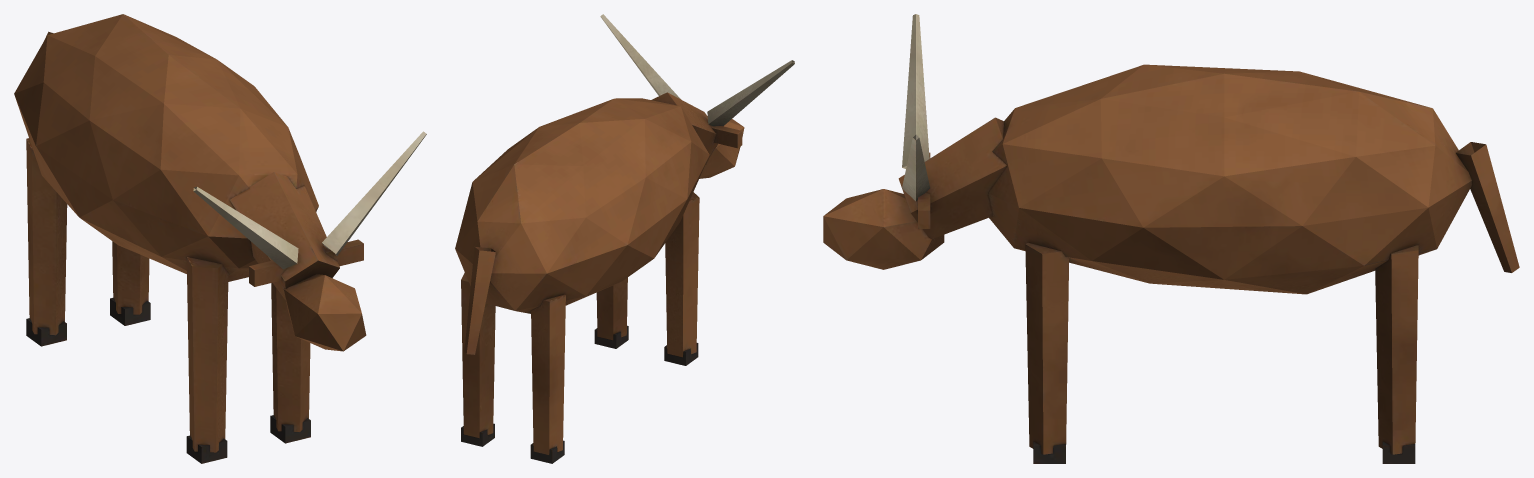
Rendered from herd-cattle.glb.
3 renders of one model, left to right at view 1: azimuth 30°, elevation 25°; view 2: azimuth 150°, elevation 25°; view 3: azimuth 270°, elevation 25°, orthographic. The views are drawn at different scales.
Parts seen in each view (by area): view 1: LOD0; view 2: LOD0; view 3: LOD0.
Boxes of the visible parts, x1,y1,x2,y2 form: LOD0: (14,14,426,463); LOD0: (455,14,794,463); LOD0: (823,14,1519,463).
Size of what is drawn, in the model's own units: 0.1015 by 0.1378 by 0.2408.
Materials: 1 (1 with a texture image).
